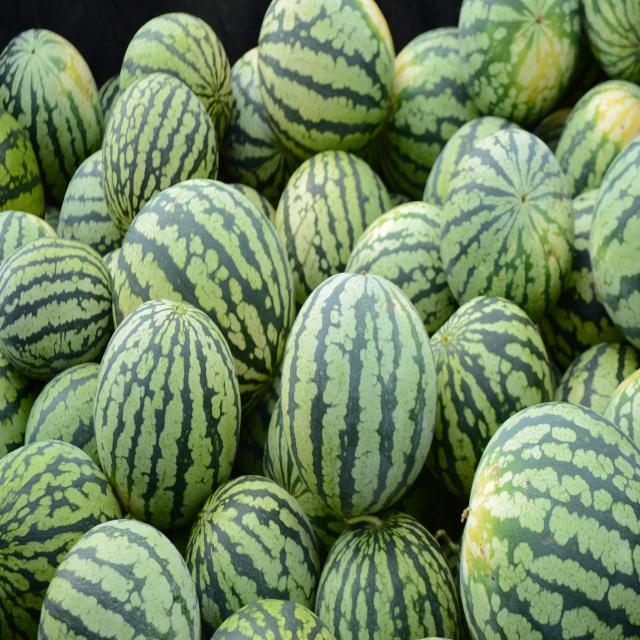Watermelon: (112, 178, 295, 411), (460, 403, 640, 639), (281, 274, 438, 518), (94, 300, 241, 531), (441, 129, 574, 322), (426, 296, 552, 497), (0, 441, 122, 639), (185, 476, 320, 638), (258, 0, 394, 159), (39, 519, 201, 639), (102, 71, 219, 232), (315, 512, 462, 639), (0, 28, 101, 204), (275, 150, 390, 304), (380, 28, 479, 201), (0, 238, 114, 381), (459, 0, 581, 126), (346, 201, 458, 336), (120, 13, 232, 139), (590, 135, 640, 349), (25, 364, 100, 467), (58, 150, 121, 257), (211, 600, 335, 640)
